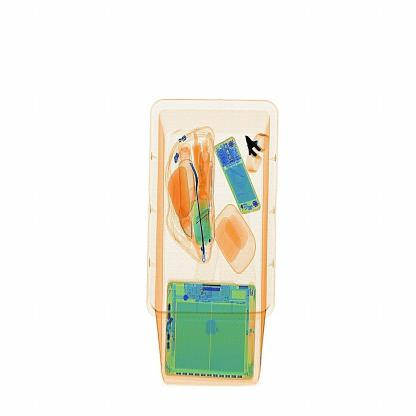gun: (238, 125, 278, 185)
